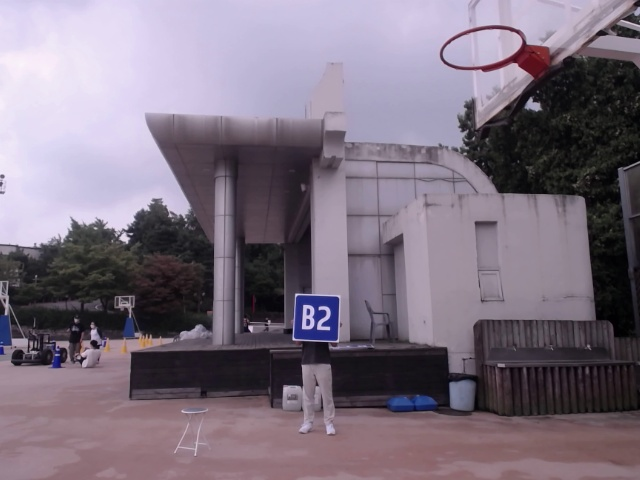delivery_b2: (295, 295, 339, 342)
